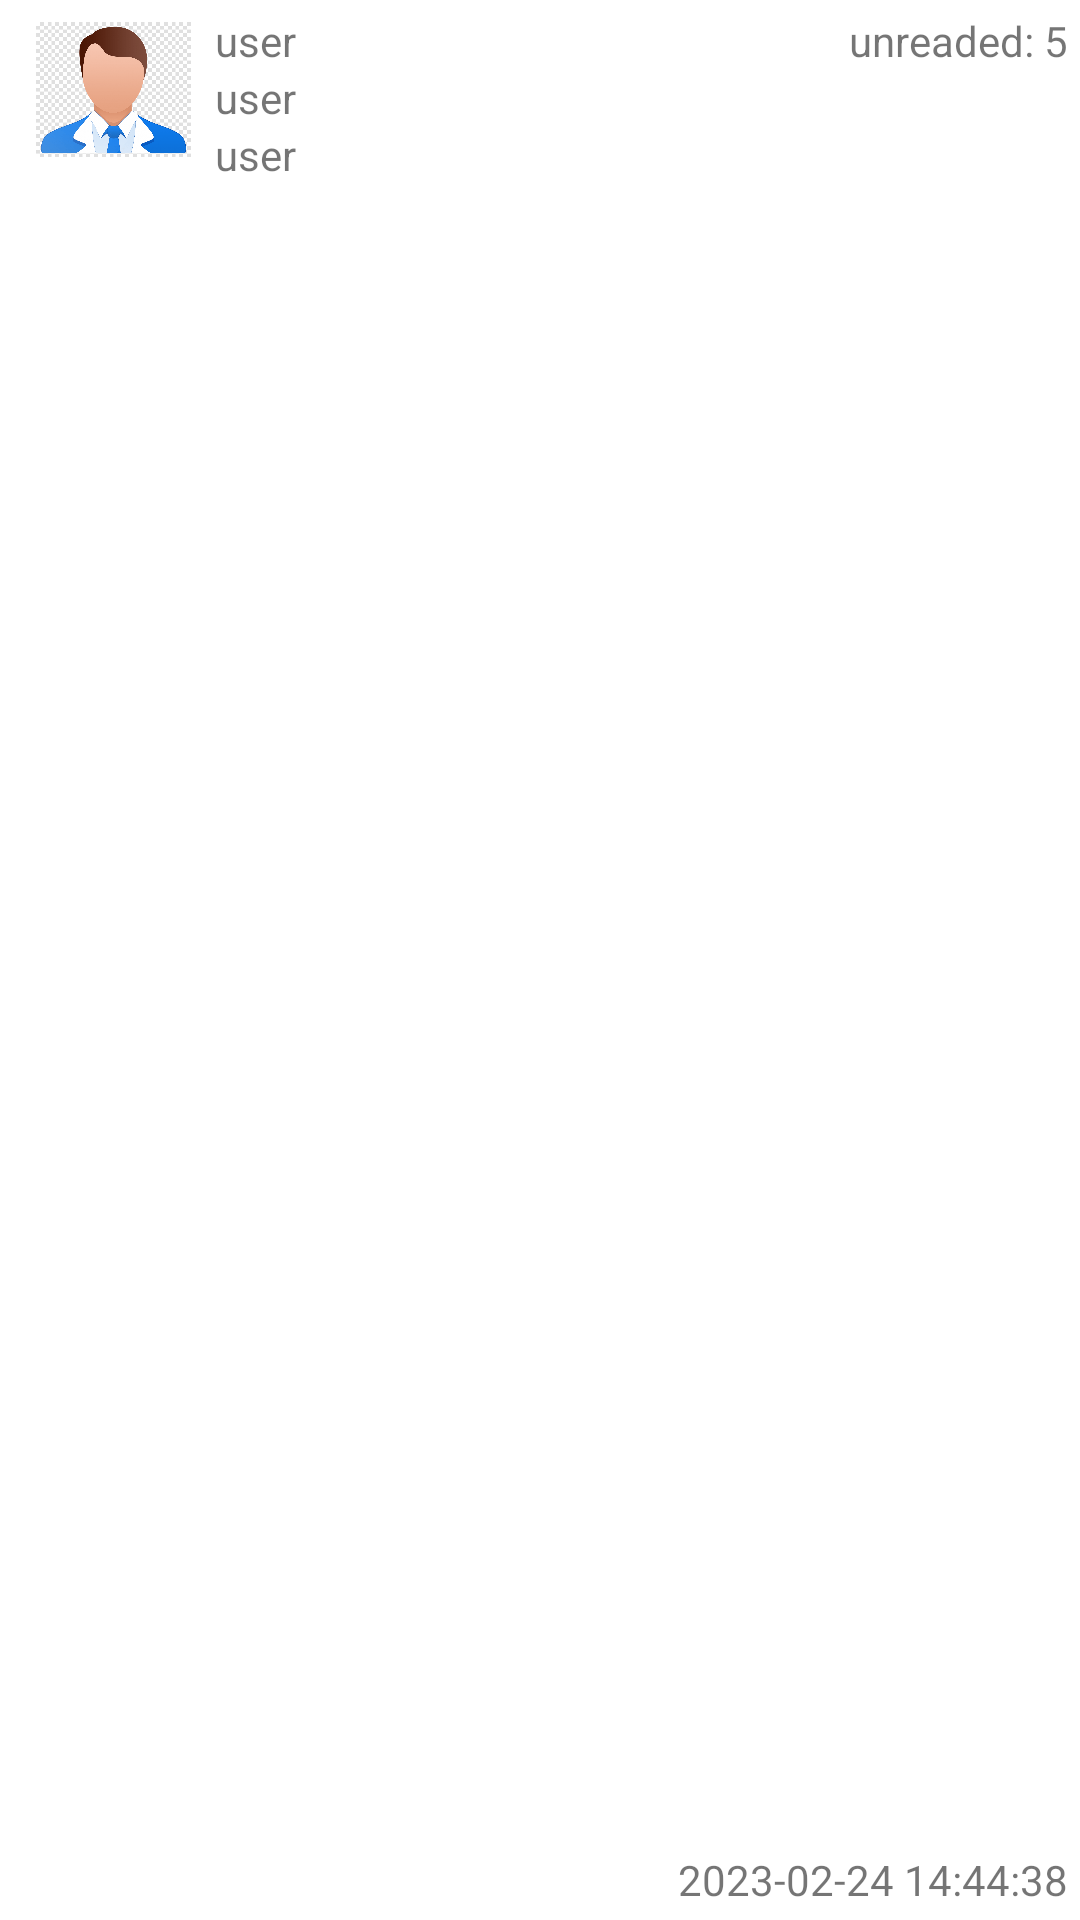

Where to tap for icons on this 1080×1920 app screen, as (x,y):
man: (113,89)
